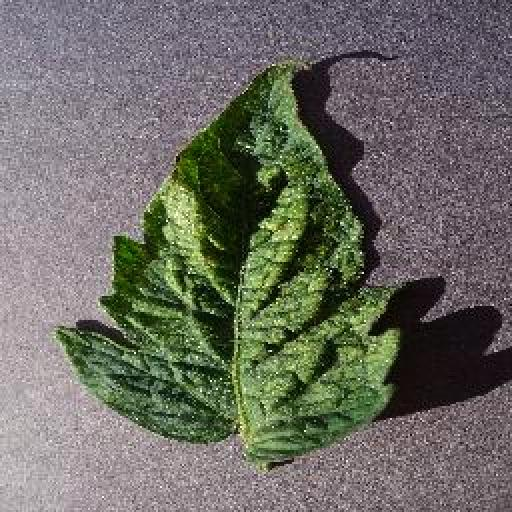disease_tomato: (58, 60, 404, 466)
